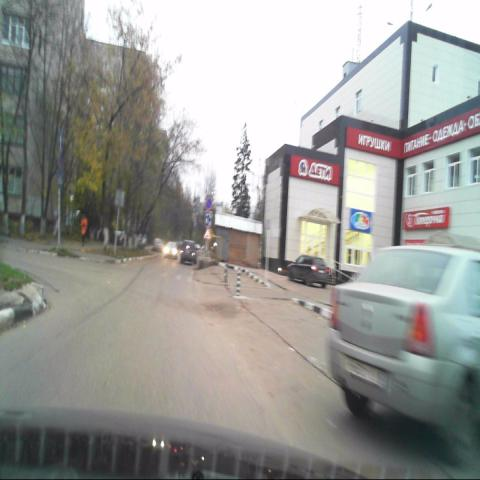1_17: (204, 228, 212, 241)
3_28: (205, 197, 212, 210)
5_21: (205, 210, 212, 226)
